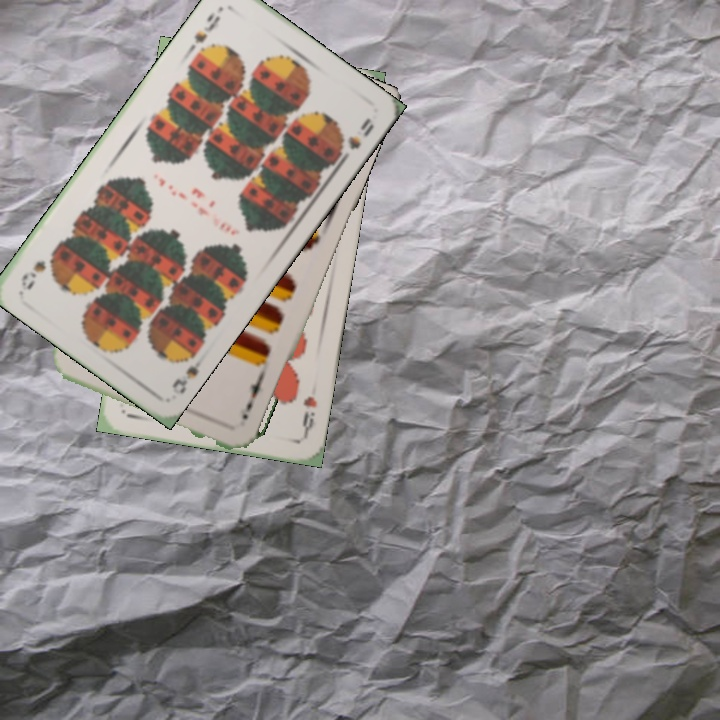E7: (238, 372, 266, 422)
H9: (298, 392, 320, 439)
S9: (167, 345, 202, 397), (190, 8, 223, 46)
